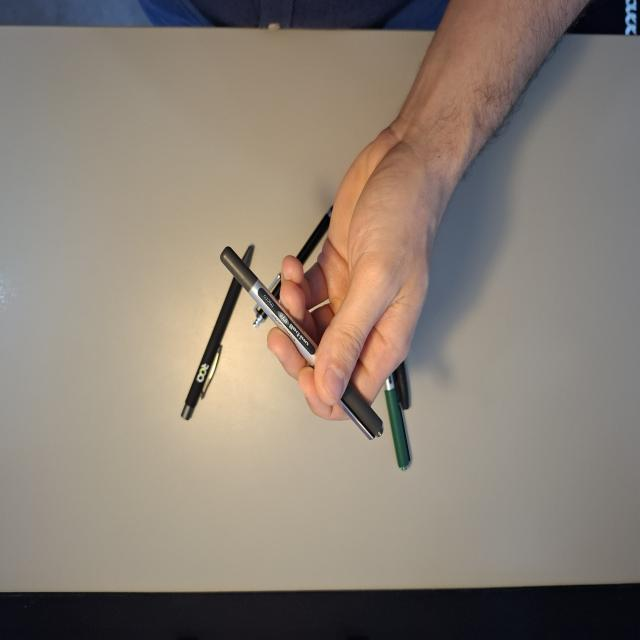glove_off: (266, 126, 442, 427)
